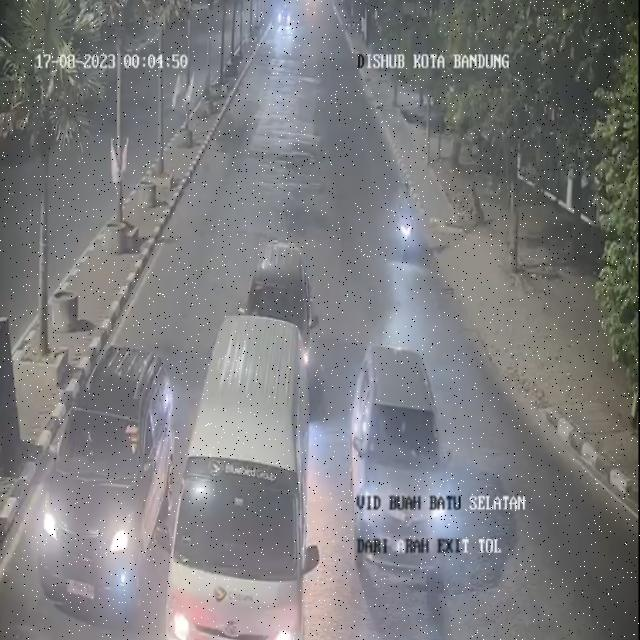cars: (164, 305, 313, 637), (32, 341, 174, 628), (354, 334, 458, 573), (242, 238, 319, 388)
motorcycle: (387, 172, 419, 266)
